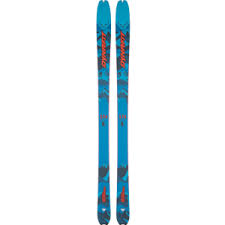skis: (94, 1, 134, 225)
